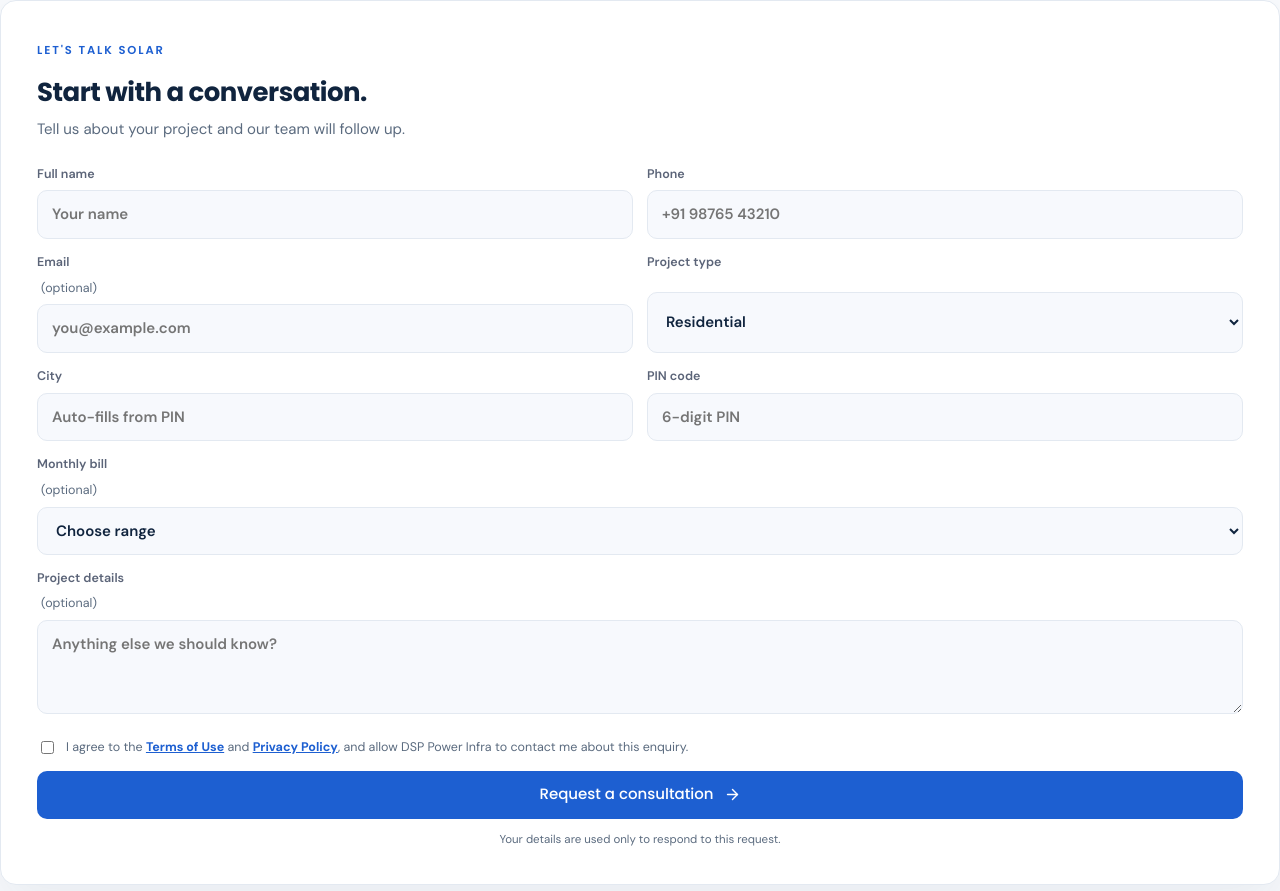
Test case: LeadForm › TC-FORM-01: happy path posts the lead and shows success
This screenshot has width=1280, height=891.
Type "Asha Kulkarni" into the field labelled "Full name" at (335, 215), box [37,190,633,239]
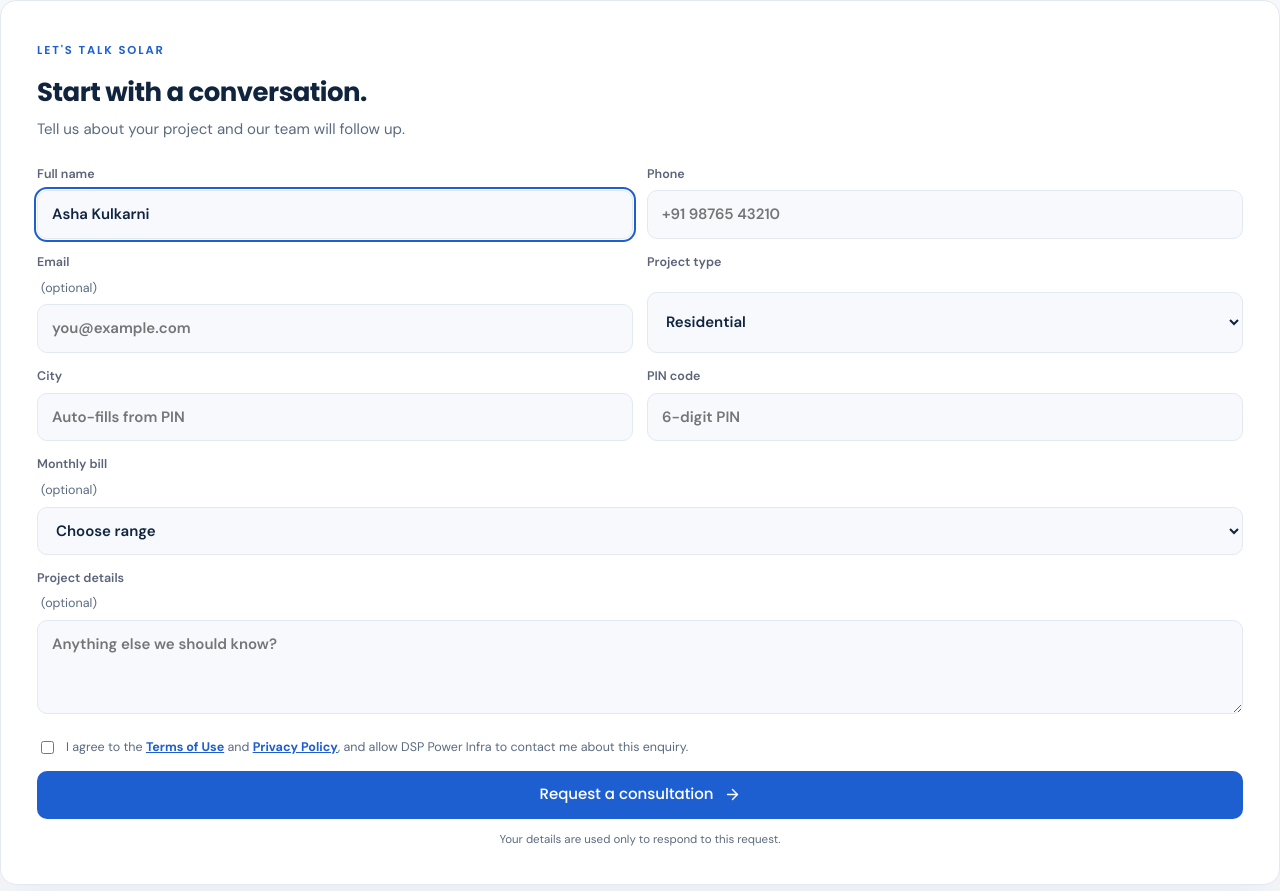
Type "9876543210" into the field labelled "Phone" at (945, 215), box [647,190,1243,239]
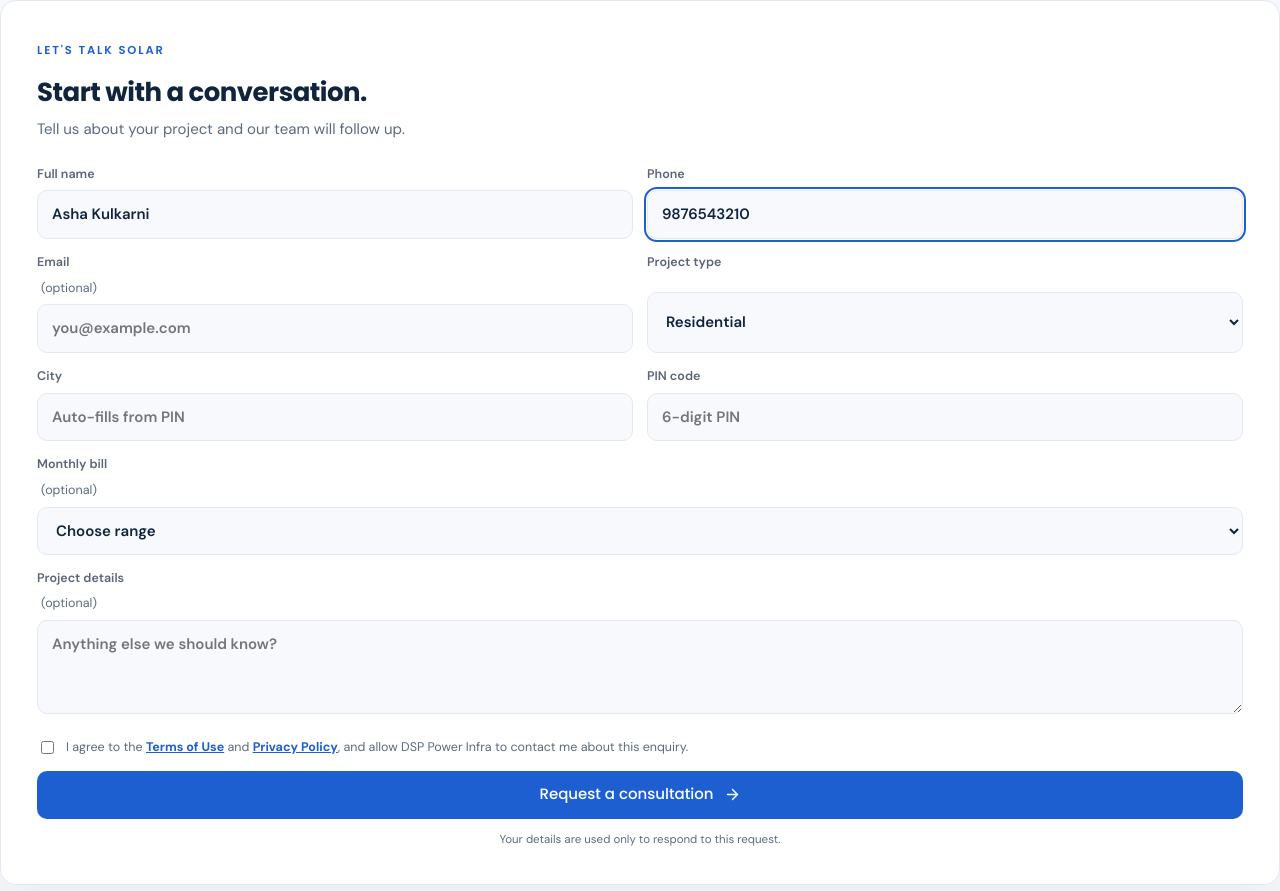
Type "Pune" into the field labelled "City" at (335, 417), box [37,392,633,441]
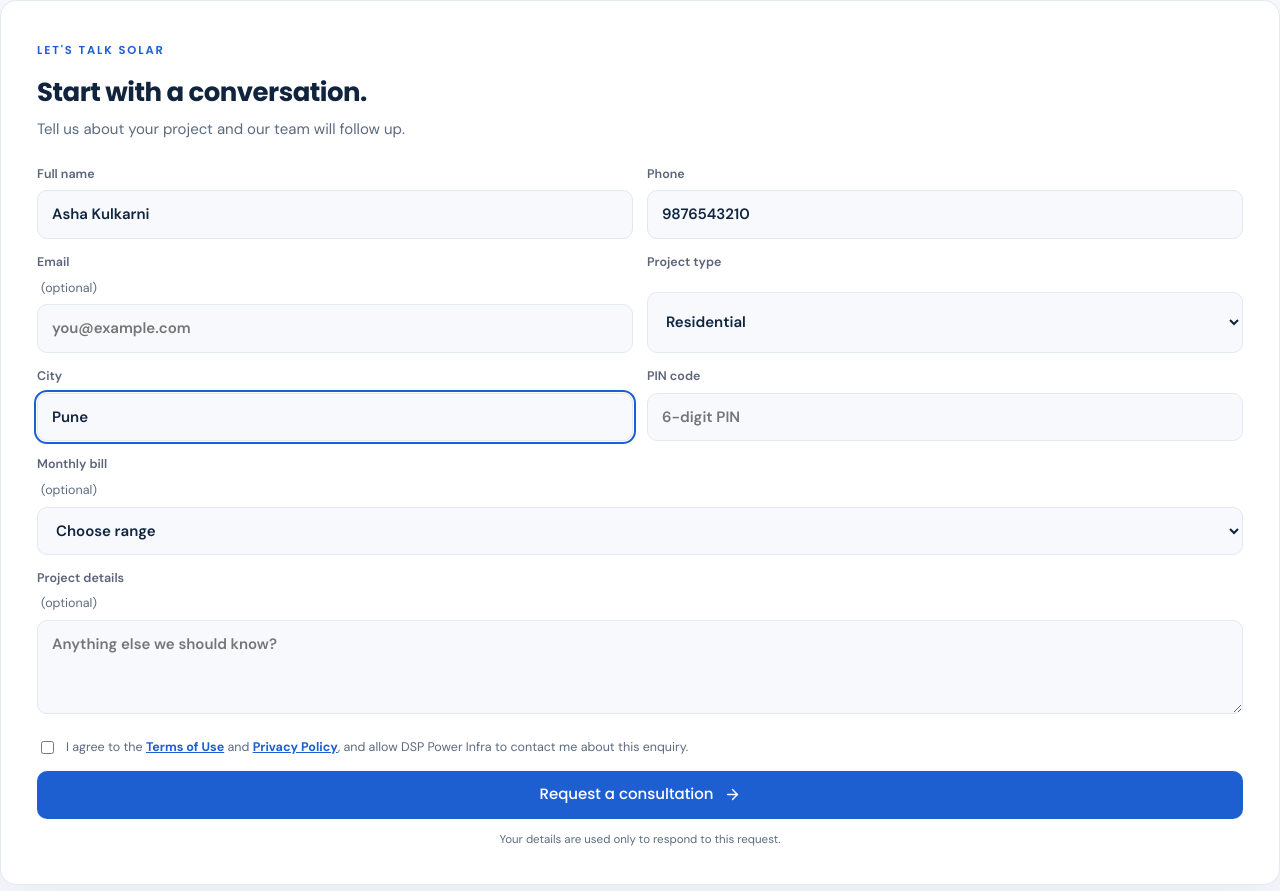
Type "411046" into the field labelled "PIN code" at (945, 417), box [647,392,1243,441]
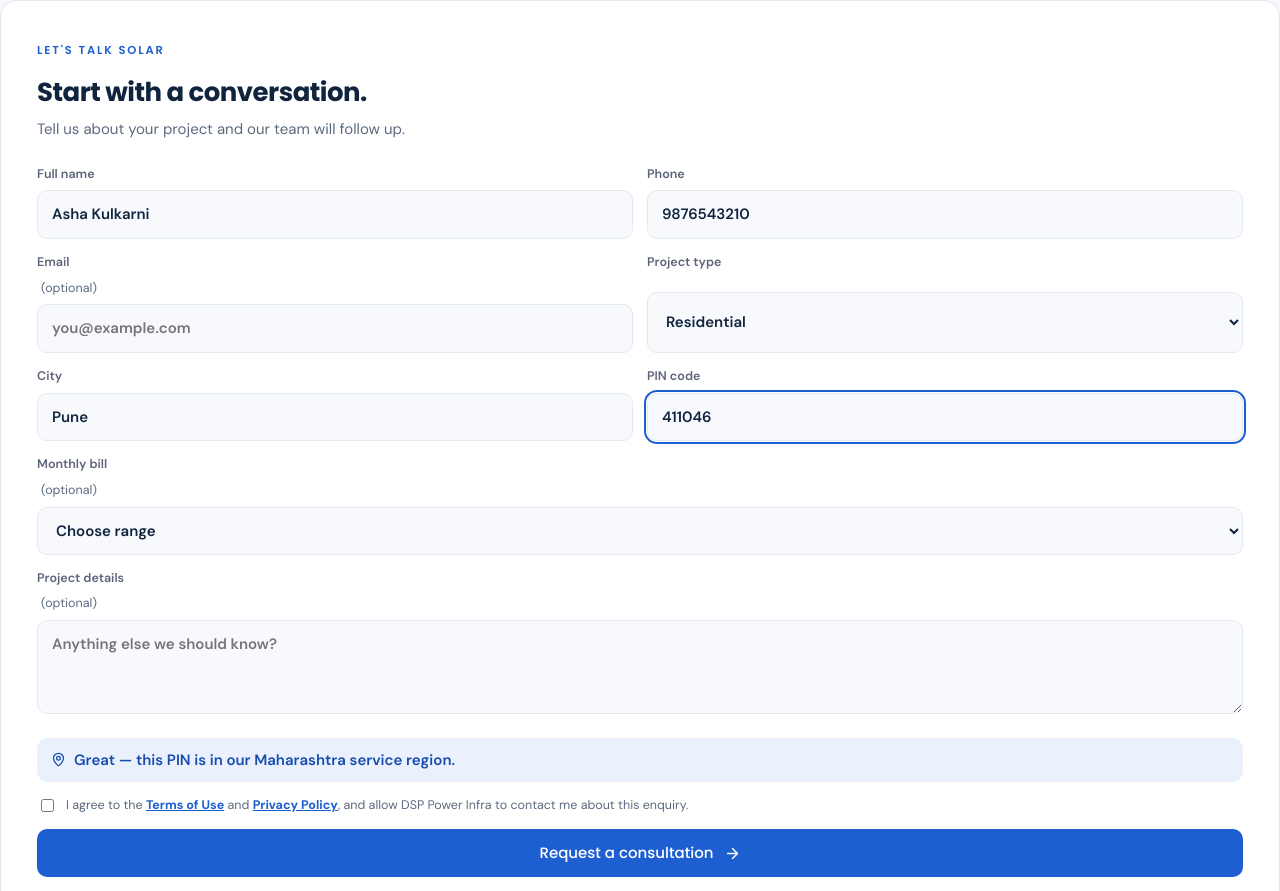
Click the checkbox at (48, 806), box [41,799,54,812]
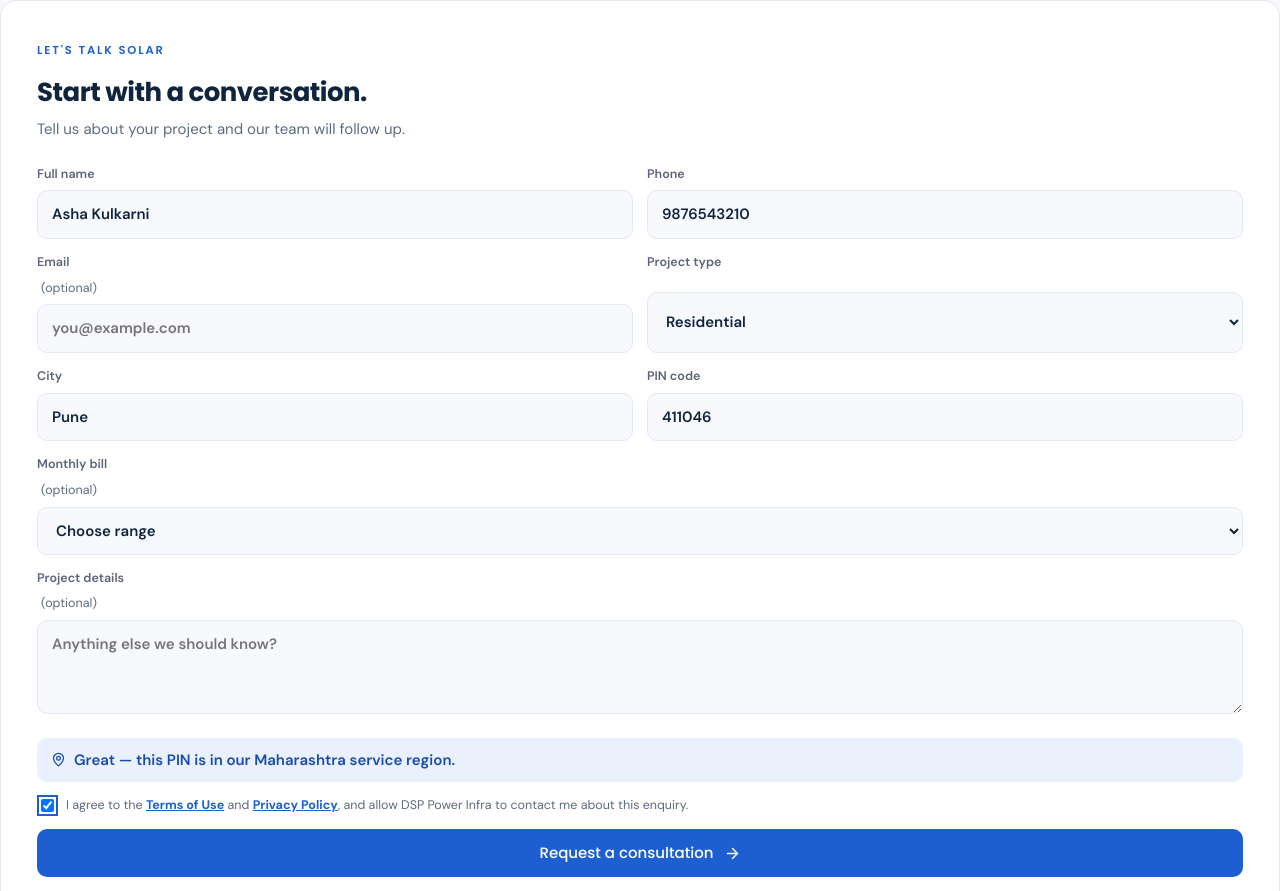
Click the button "Request a consultation" at (640, 853), box [37,829,1243,877]
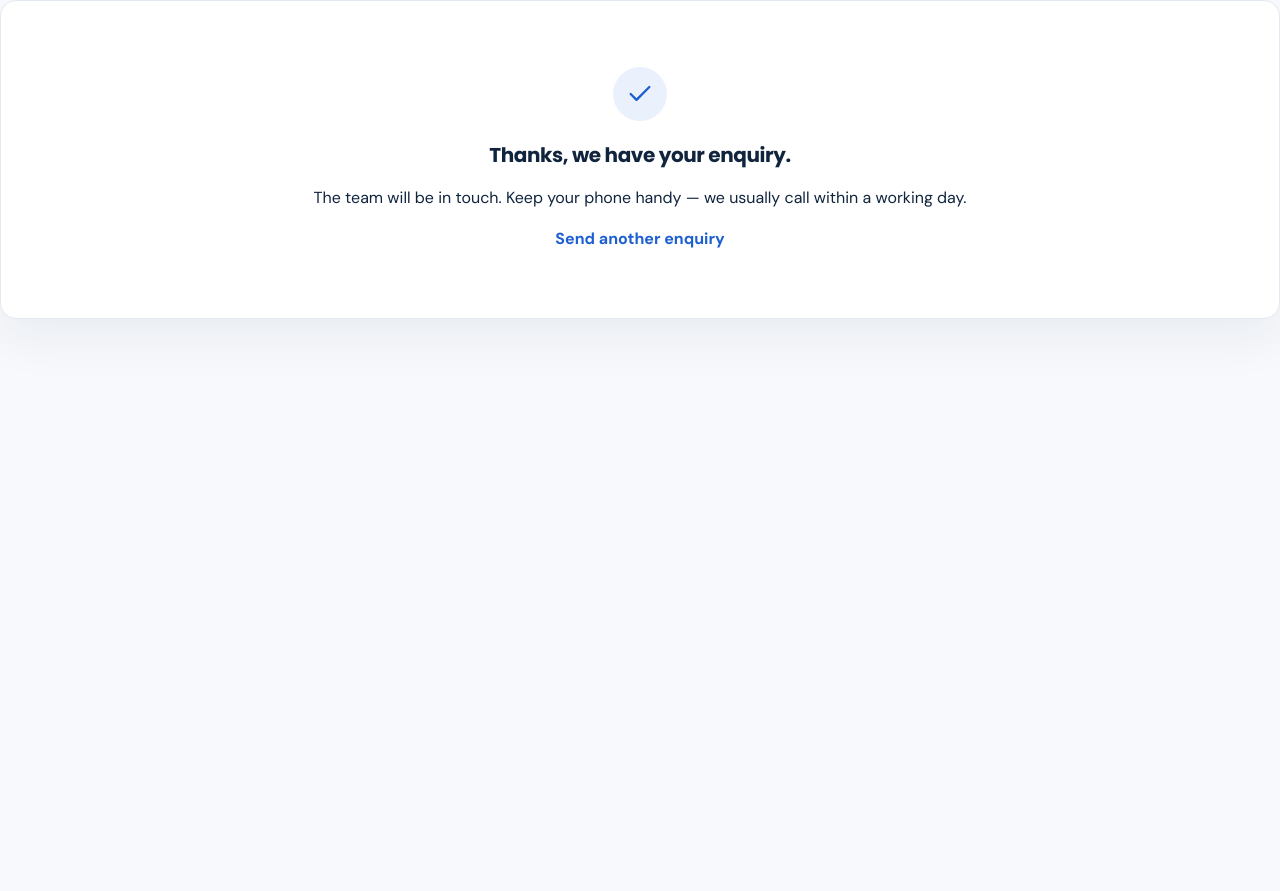
Check: the heading "Thanks, we have your enquiry." is shown, box [489,141,791,169]
